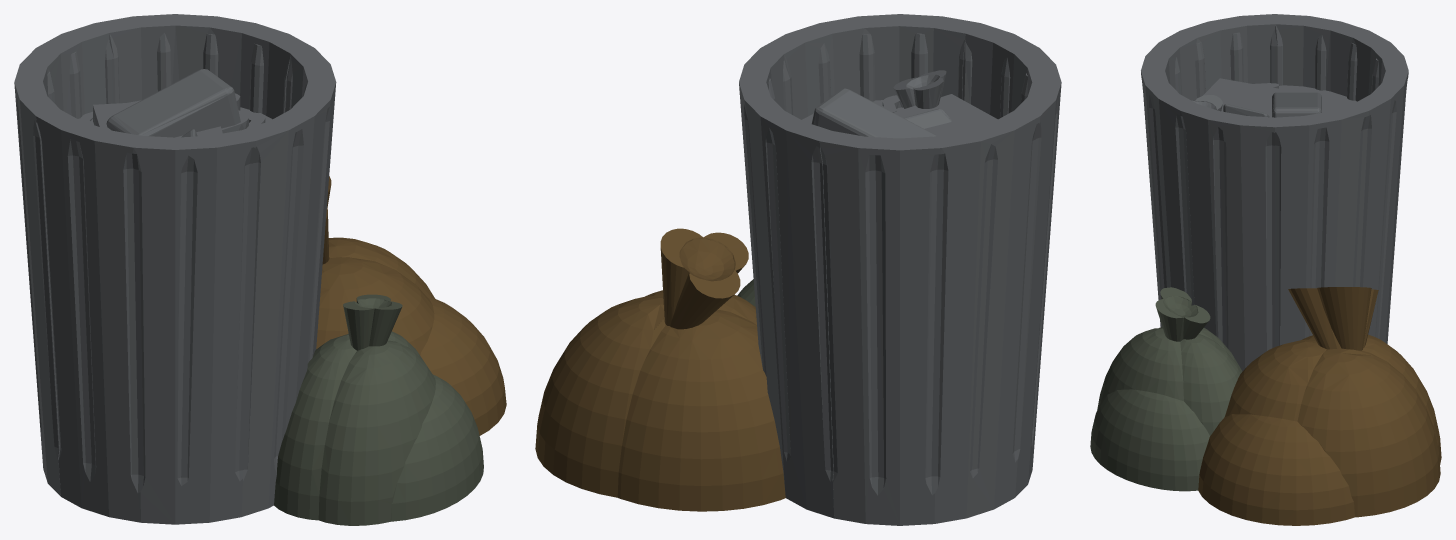
Rendered from can trash.glb.
The picture shows the model from 3 angles, left to right: view 1: azimuth 30°, elevation 25°; view 2: azimuth 150°, elevation 25°; view 3: azimuth 270°, elevation 25°; orthographic projection. The views are drawn at different scales.
Parts seen in each view (by area): view 1: Mesh_Mesh_head_geo.001_lambert2SG.001; view 2: Mesh_Mesh_head_geo.001_lambert2SG.001; view 3: Mesh_Mesh_head_geo.001_lambert2SG.001.
Part boxes in pixels (x1,y1,x2,y2): Mesh_Mesh_head_geo.001_lambert2SG.001: [14, 14, 506, 525]; Mesh_Mesh_head_geo.001_lambert2SG.001: [535, 14, 1061, 525]; Mesh_Mesh_head_geo.001_lambert2SG.001: [1090, 14, 1441, 525].
Bounding box in the file's own units: 0.0245 × 0.0193 × 0.0191.
